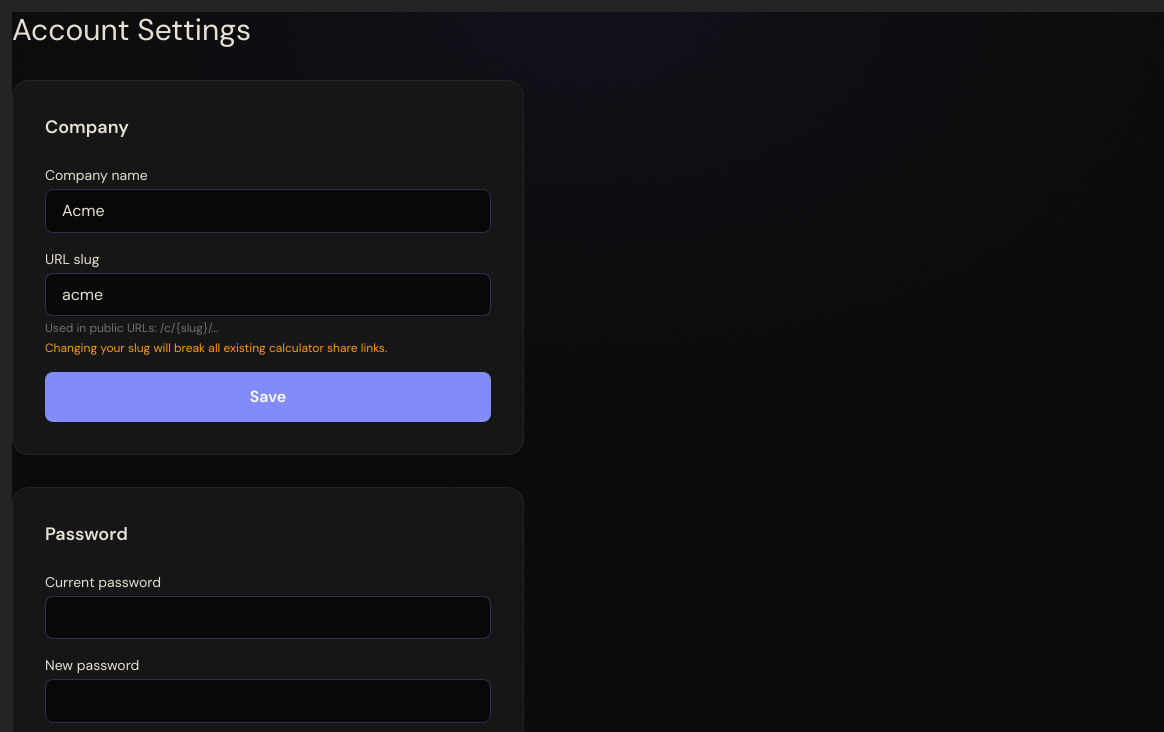
it: SettingsPage › shows success state after updating company settings
Replace the text in the field labelled "Company name" with "Acme Inc" at [268, 211], box [45,189,491,233]
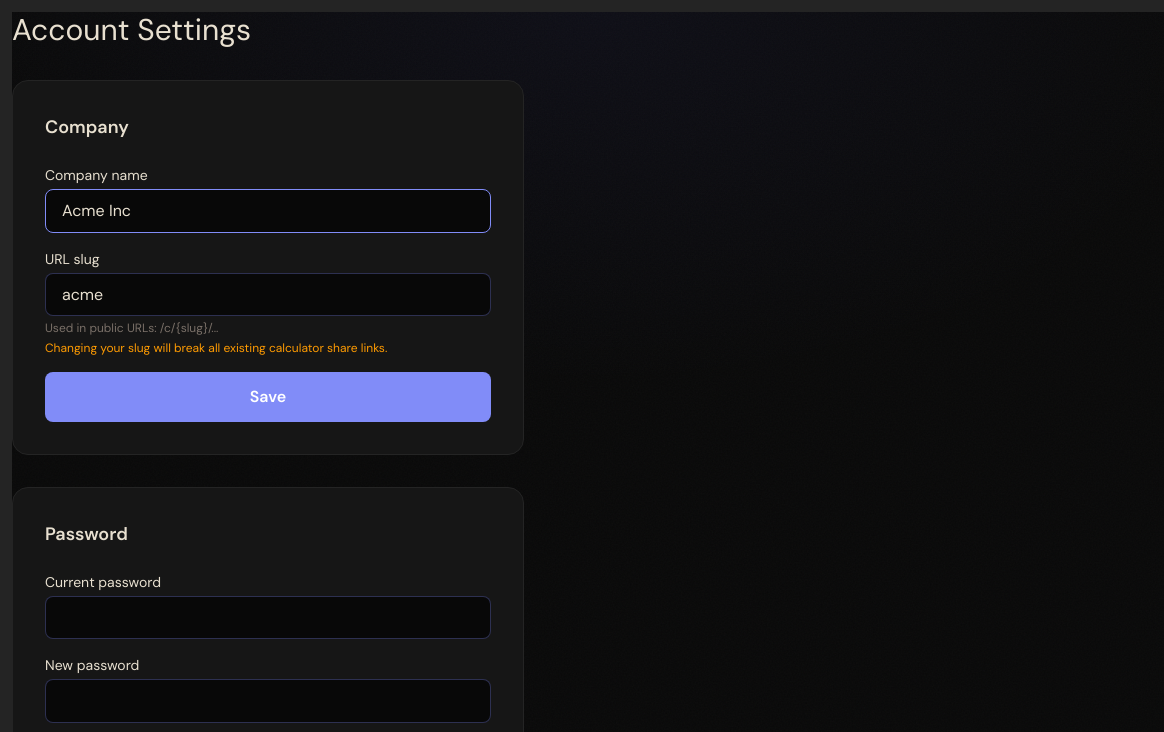
Click the button "Save" at [268, 397], box [45,372,491,422]
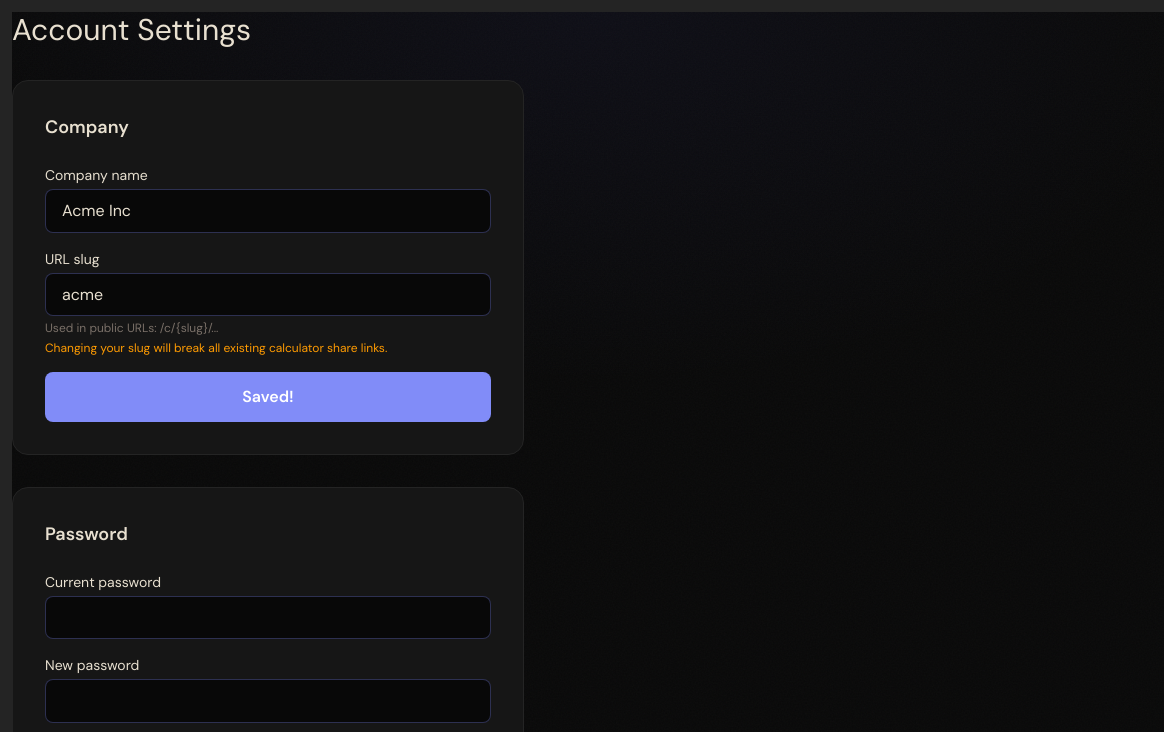
Result: the button "Saved!" is shown at [45,372,491,422]
